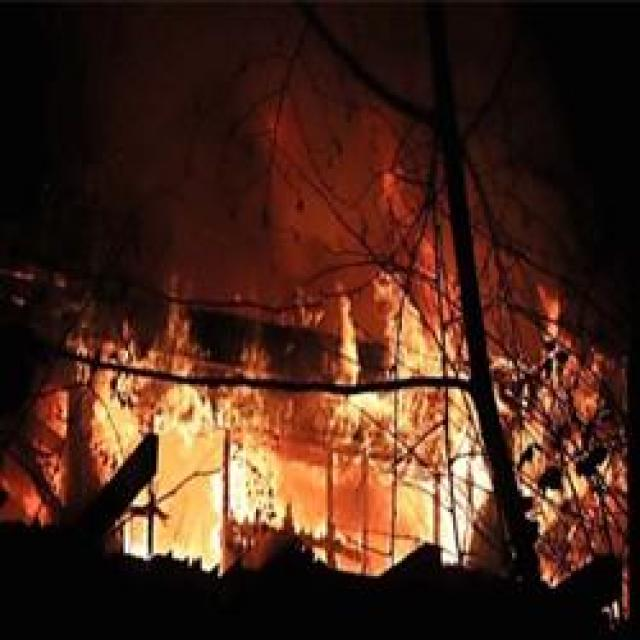fire: (62, 298, 562, 578)
